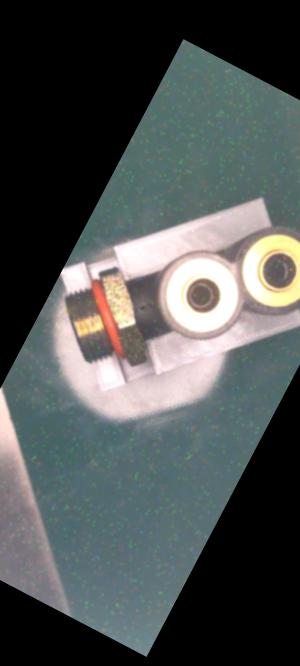craze: (130, 291, 161, 321)
